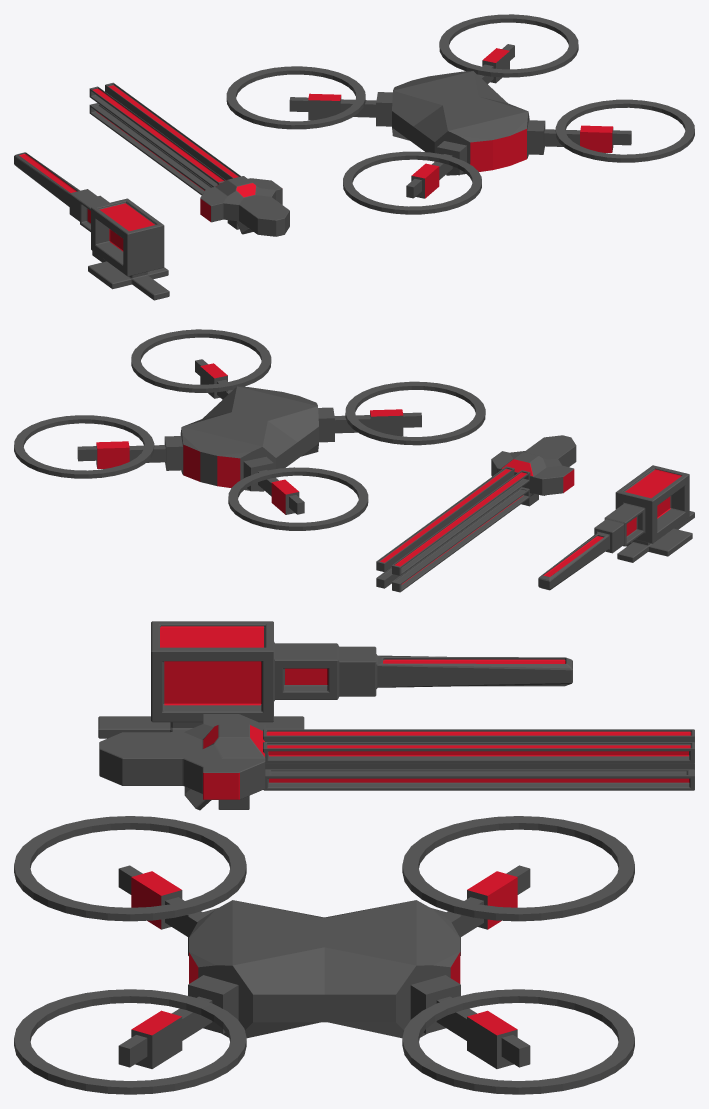
File: dron (2).fbx
3 renders of one model, top to bottom at view 1: azimuth 30°, elevation 25°; view 2: azimuth 150°, elevation 25°; view 3: azimuth 270°, elevation 25°, orthographic. The views are drawn at different scales.
Parts seen in each view (by area): view 1: Cube, Cube.004, Cube.001; view 2: Cube, Cube.004, Cube.001; view 3: Cube, Cube.004, Cube.001.
Boxes of the visible parts, bbox=[...] form: Cube: bbox=[226, 14, 694, 214]; Cube.004: bbox=[89, 82, 289, 236]; Cube.001: bbox=[14, 152, 169, 300]; Cube: bbox=[14, 329, 485, 530]; Cube.004: bbox=[376, 435, 576, 592]; Cube.001: bbox=[538, 465, 694, 590]; Cube: bbox=[14, 816, 634, 1094]; Cube.004: bbox=[99, 714, 694, 810]; Cube.001: bbox=[98, 621, 572, 738].
Size of the model in its own units: 797 by 80.12 by 502.
